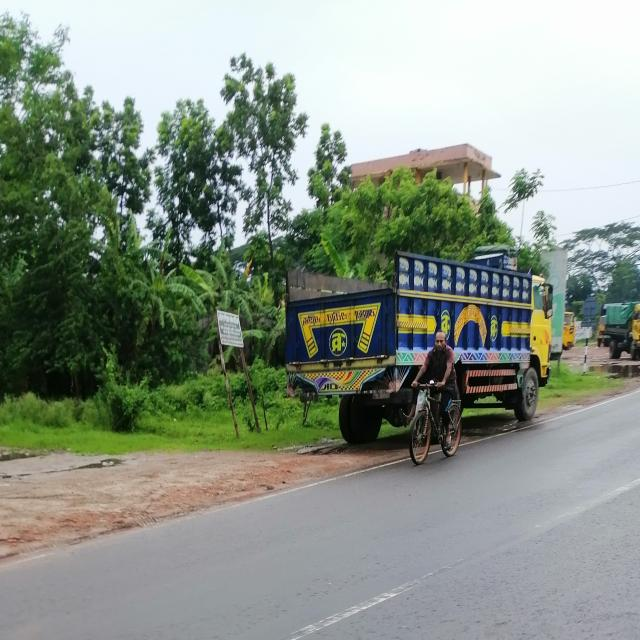Bicycle: (405, 377, 470, 469)
Truck: (275, 219, 556, 435), (598, 287, 640, 369)
